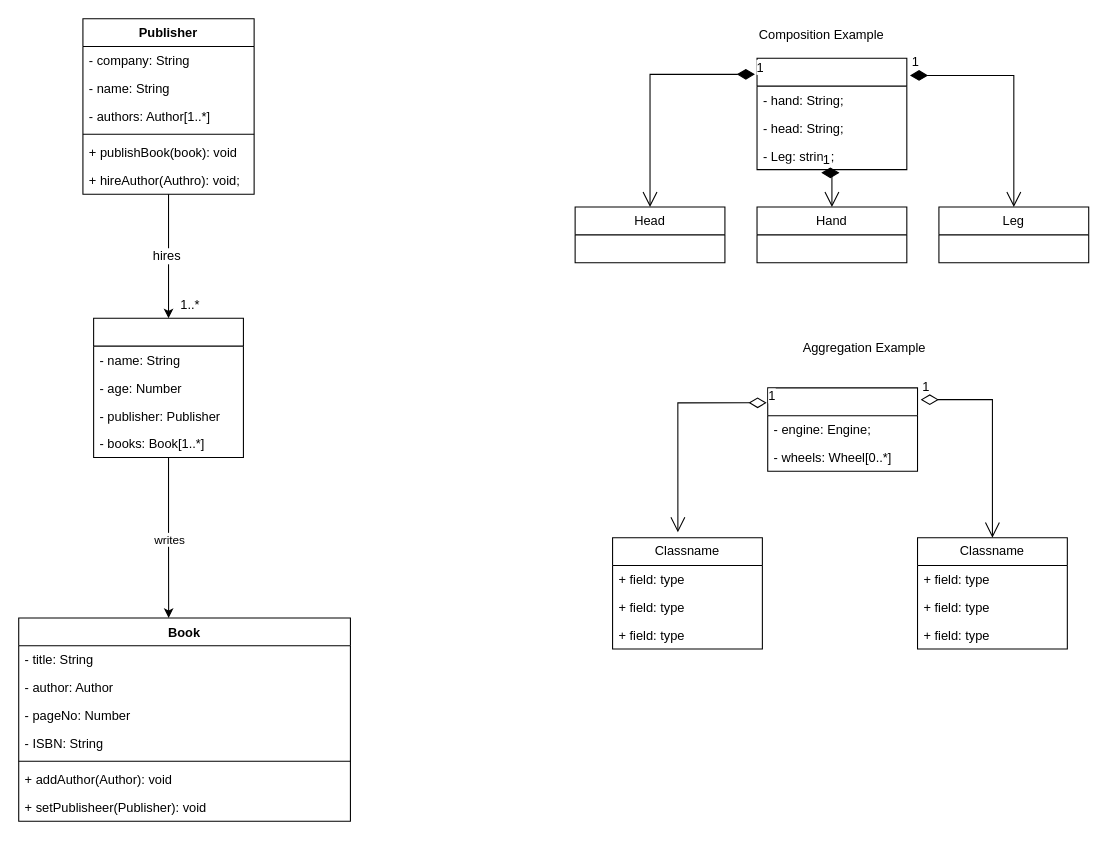
The diagram is 1107 pixels wide and 843 high, and some of its shapes have lost their labels. The box of each missing label's shape, as (x1, y1, x2, y2) in pixels:
Author: (93, 317, 243, 457)
Car: (767, 387, 918, 471)
Person: (756, 57, 907, 170)
